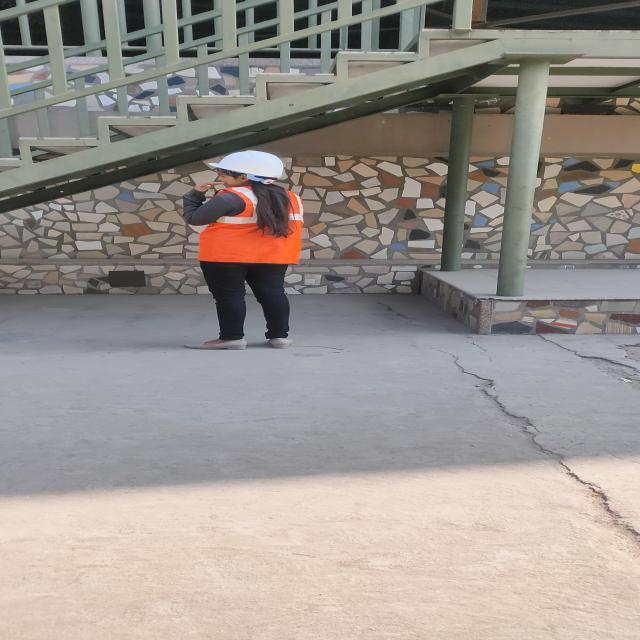safe: (184, 150, 304, 350)
